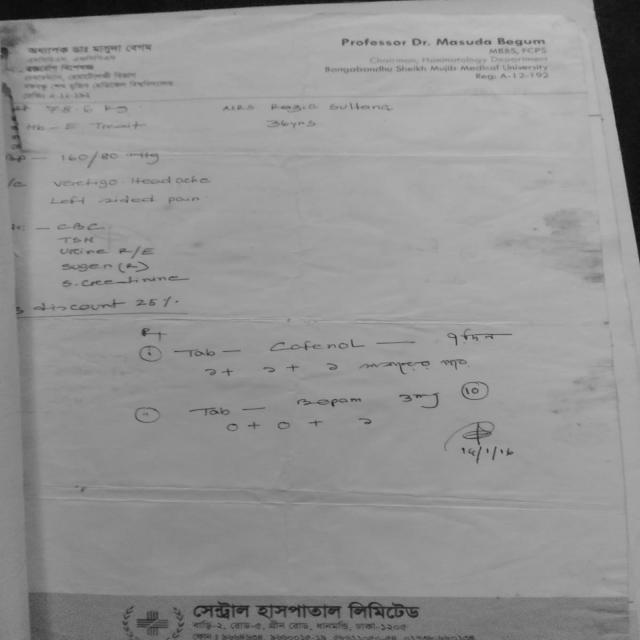Bopam: (293, 392, 374, 411)
Cafenol: (258, 333, 366, 358)
